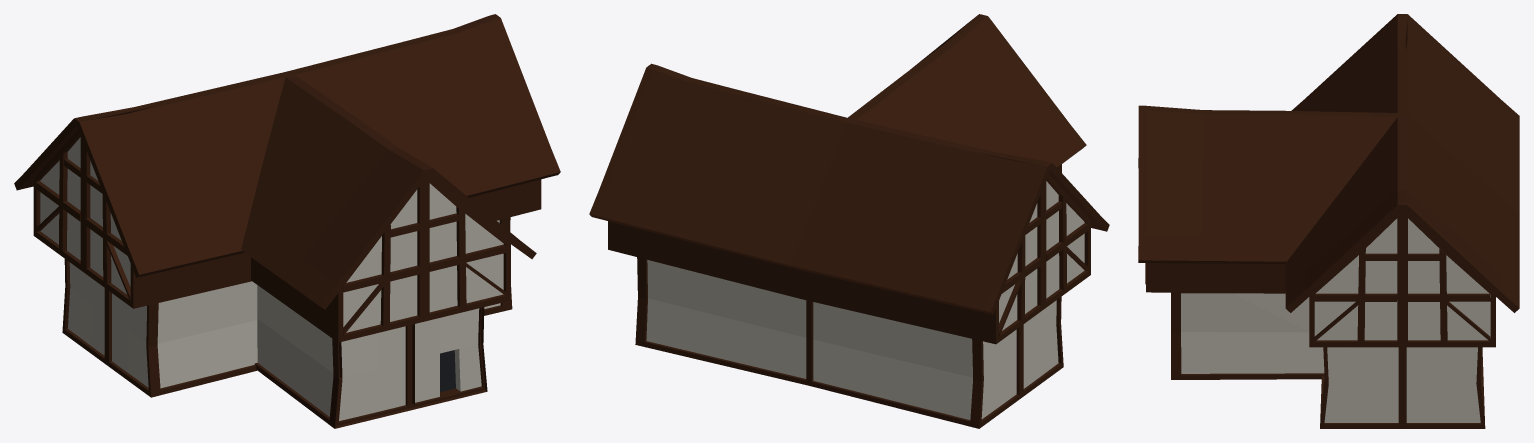
File: maison_moyenne_03.fbx
The picture shows the model from 3 angles, left to right: view 1: azimuth 30°, elevation 25°; view 2: azimuth 150°, elevation 25°; view 3: azimuth 270°, elevation 25°; orthographic projection. The views are drawn at different scales.
Parts seen in each view (by area): view 1: Cube.001; view 2: Cube.001; view 3: Cube.001.
Boxes of the visible parts, left/top/right/bottom form: Cube.001: left=14, top=14, right=560, bottom=428; Cube.001: left=589, top=14, right=1109, bottom=428; Cube.001: left=1138, top=14, right=1519, bottom=428.
Bounding box in the file's own units: 1536 × 888 × 1284.
